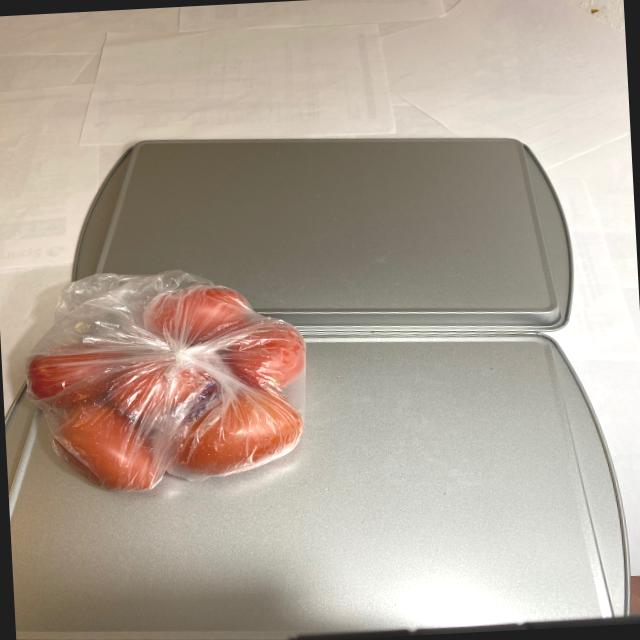tomato: (22, 280, 320, 506)
